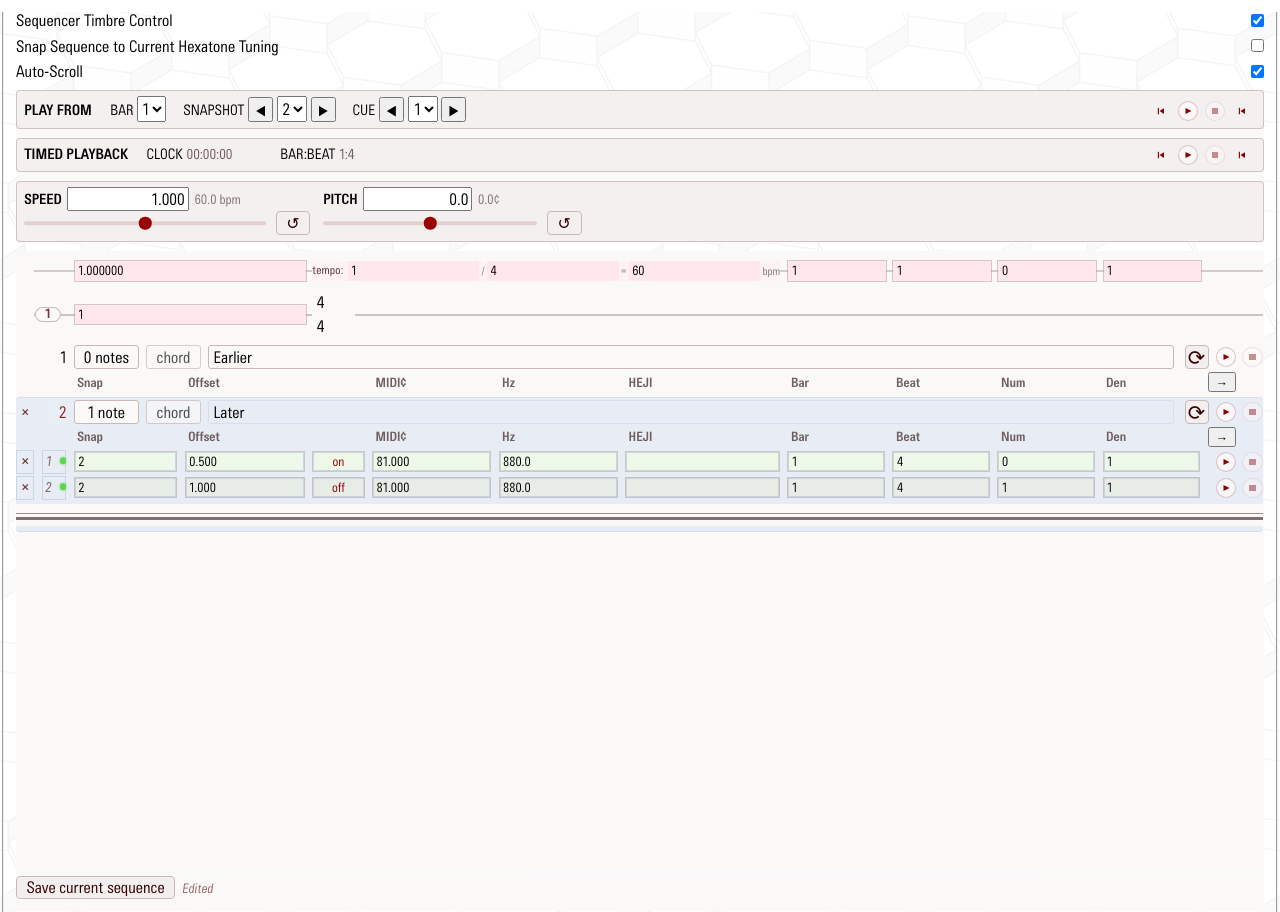
Sequencer › moves an event to another snapshot when its snapshot number is committed
The image size is (1280, 912).
expect the field named "snapshot 2 attack offset" holds "0.500": met, box [186,452,304,472]
Replace the text in the number field named "snapshot 2 attack snapshot" with "1" at [126, 462], box [75,452,176,472]
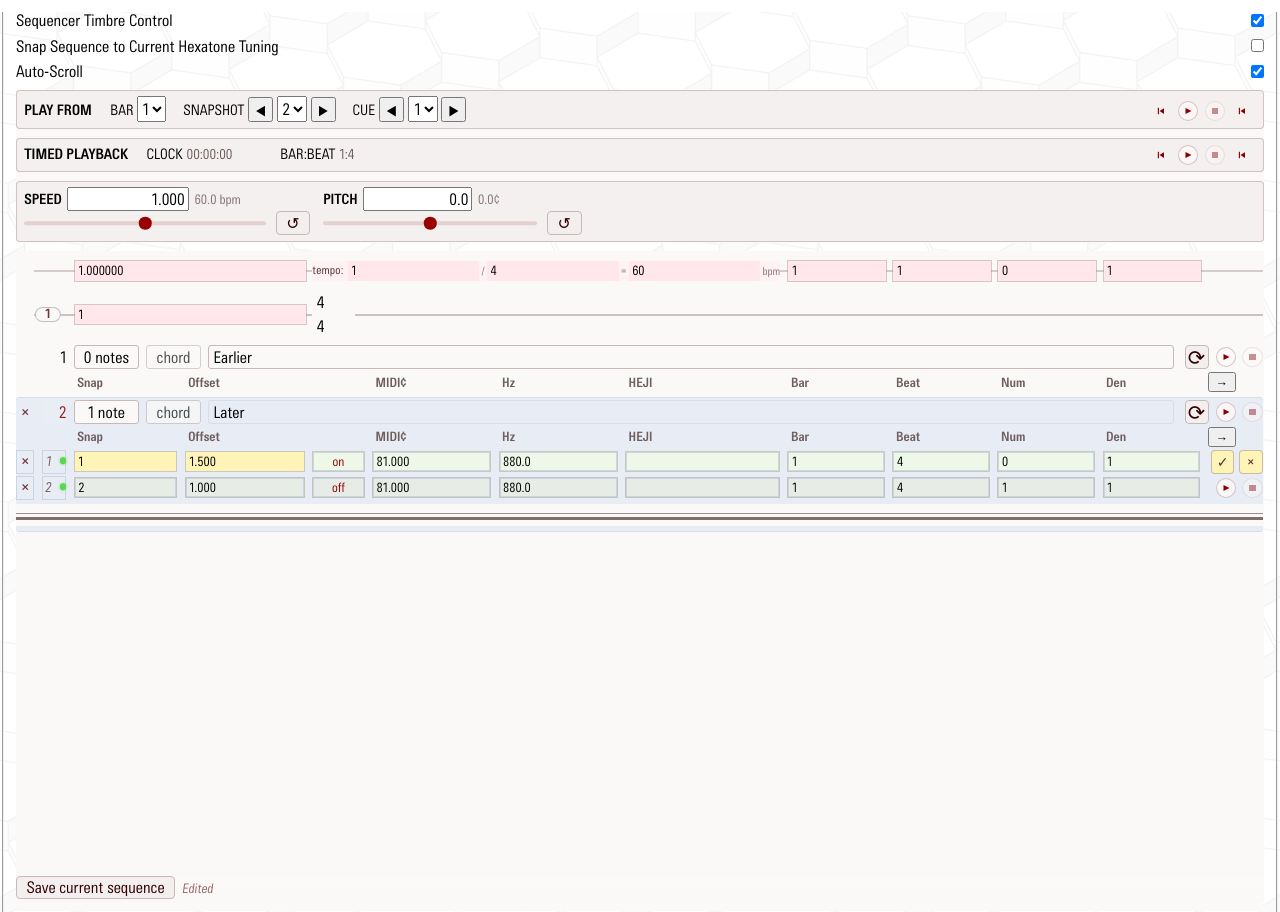
Focus the field named "snapshot 2 attack offset" at [245, 462], box [186,452,304,472]
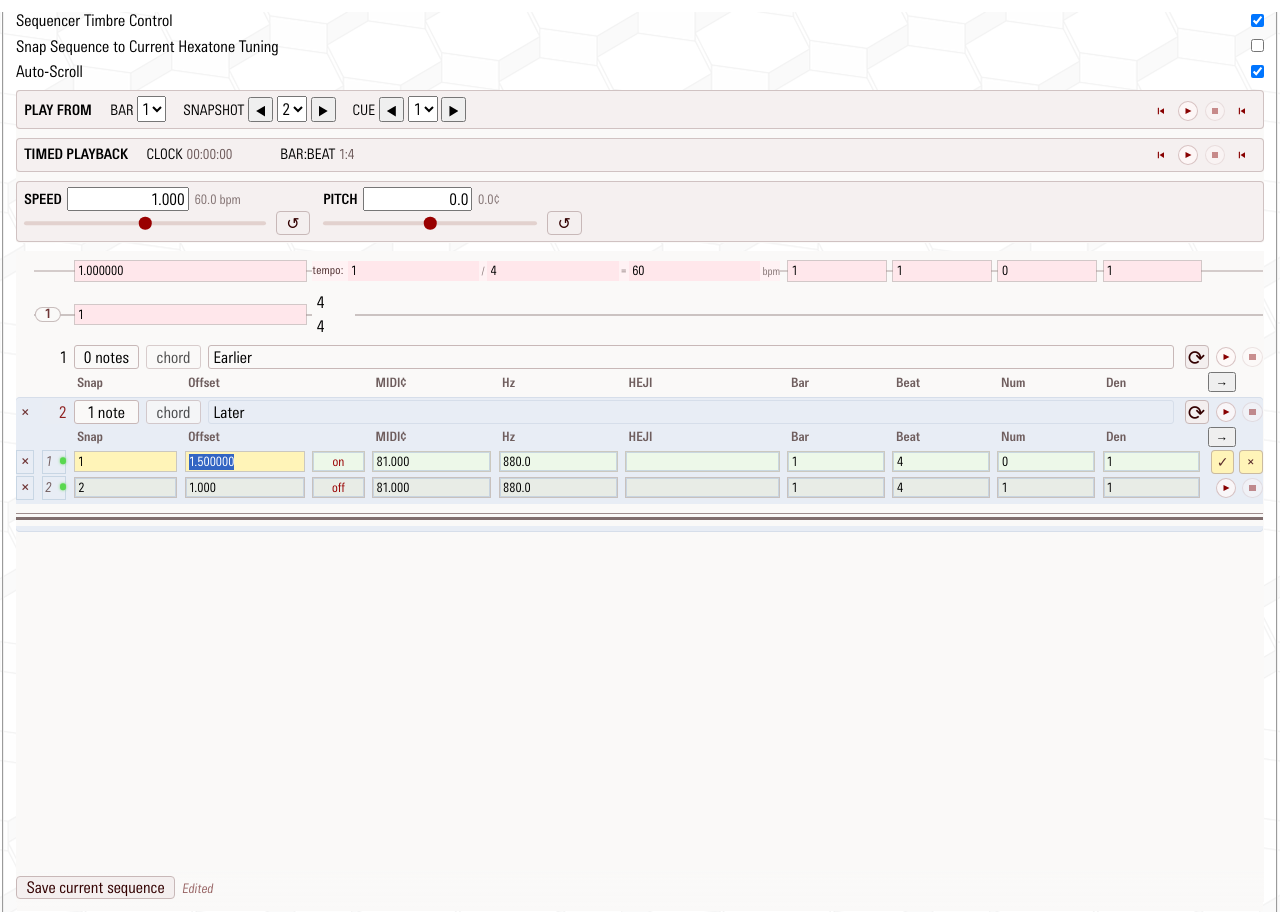
expect the field named "snapshot 2 attack offset" holds "1.500000": met
Replace the text in the field named "snapshot 2 attack offset" with "1.250000" at [245, 462], box [186,452,304,472]
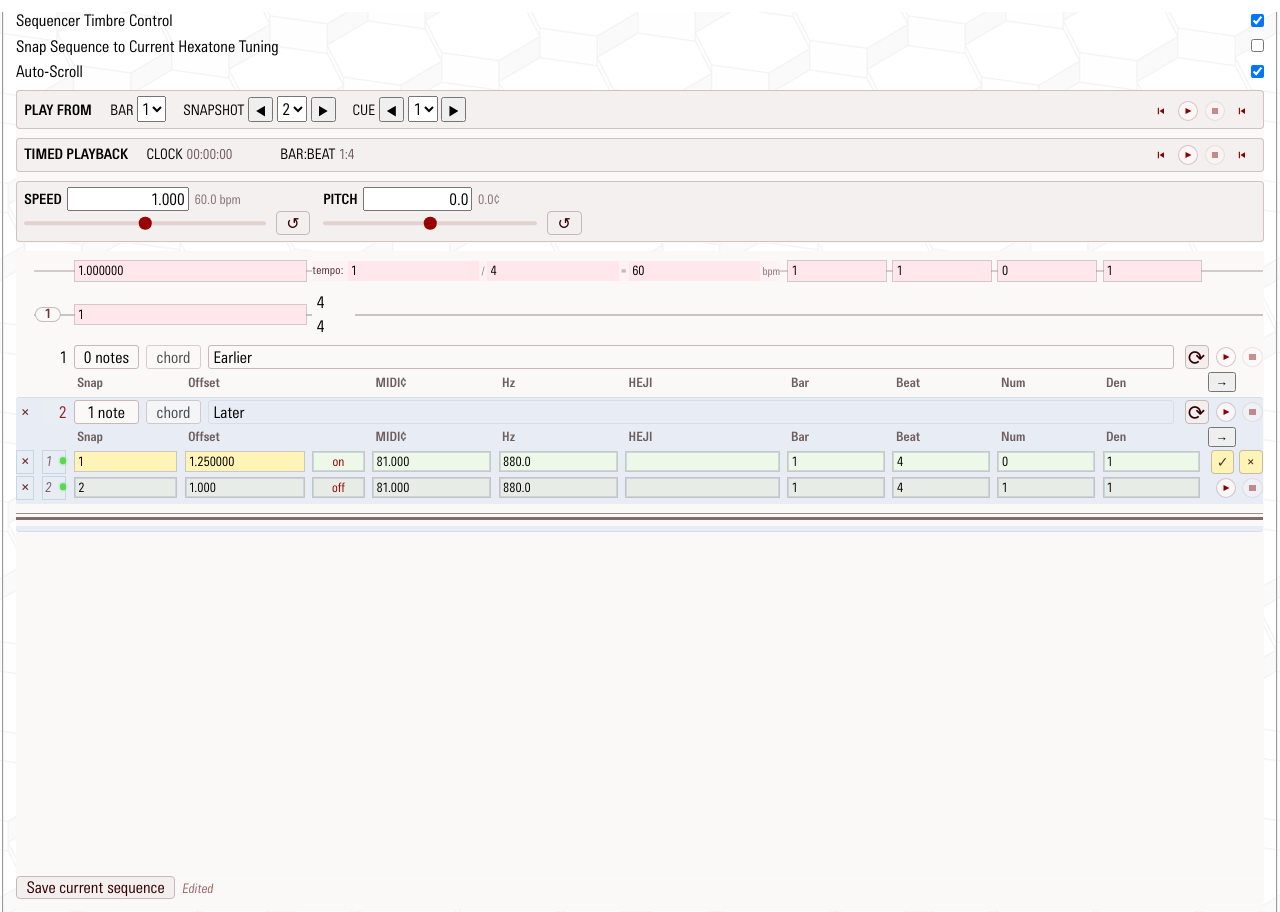
Click the button named "commit snapshot 2 attack sequence placement".
click(1222, 462)  # box [1211,450,1234,474]
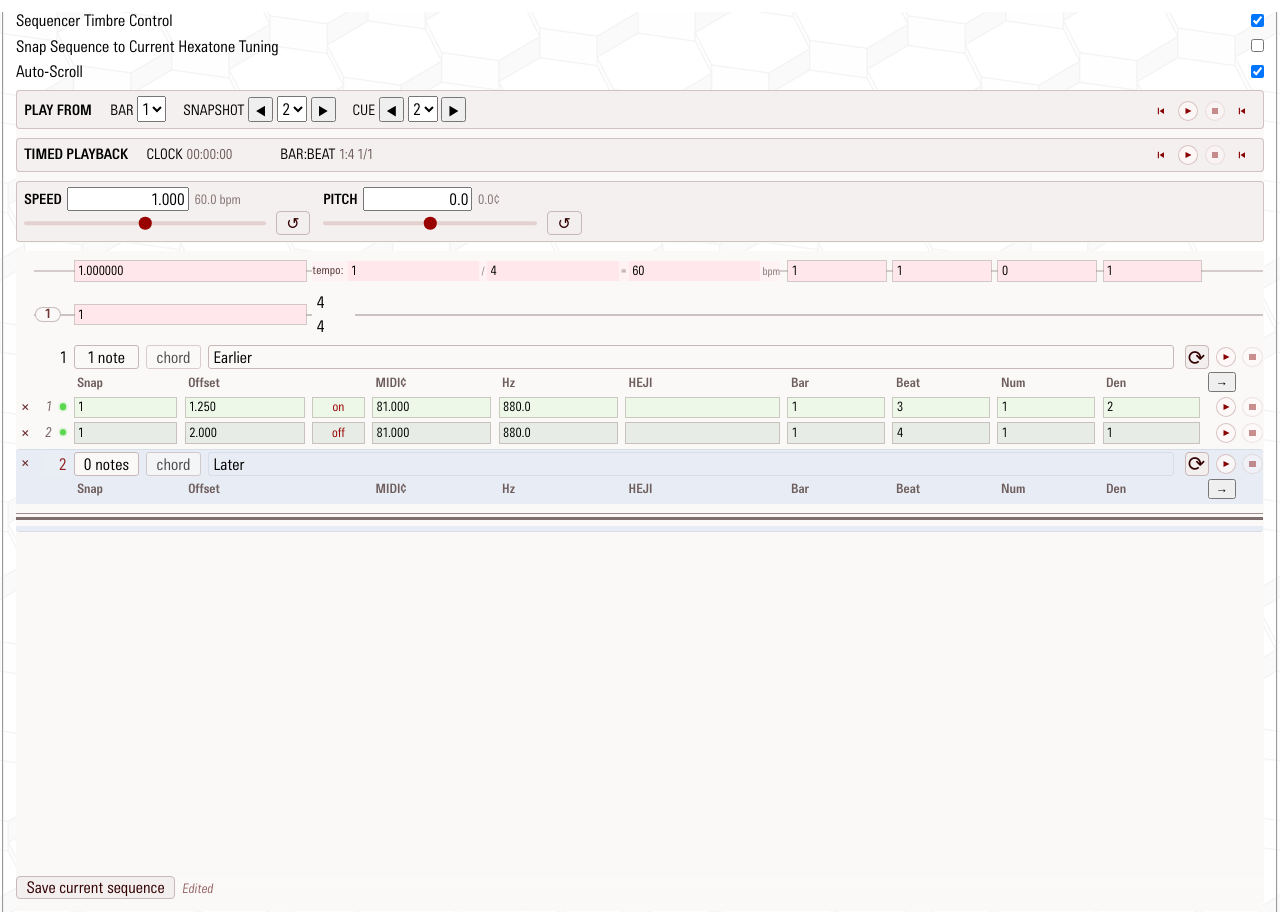
expect the number field named "snapshot 1 attack snapshot" holds "1": met, box [75,398,176,417]
expect the field named "snapshot 1 attack offset" holds "1.250": met, box [186,398,304,417]
